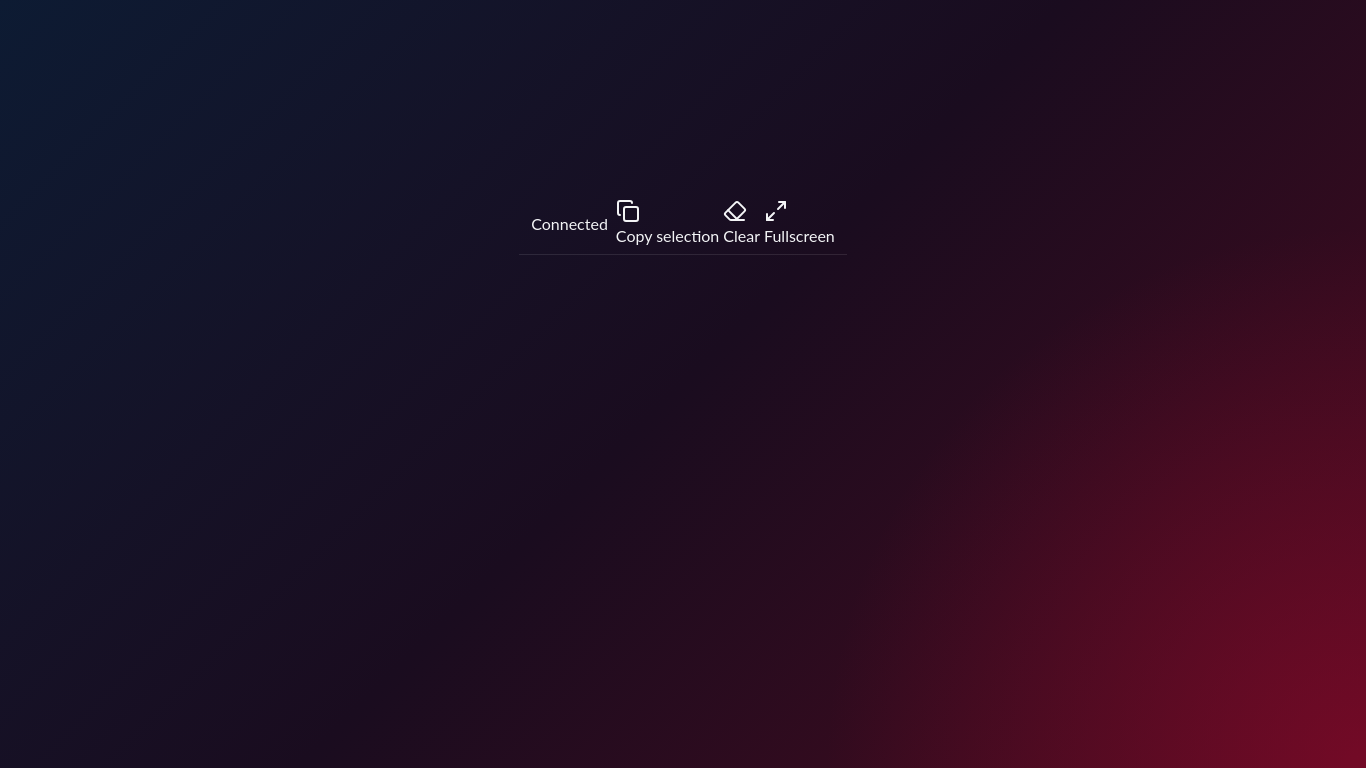
Test: Terminal › pipes transport output and input, clear works, and reconnect appears on close
Later steps or results of the test are not shown.
expect the text "Connected" is shown: met, box [531, 214, 608, 233]
Click the button "Clear".
click(742, 224)  # box [723, 199, 760, 248]
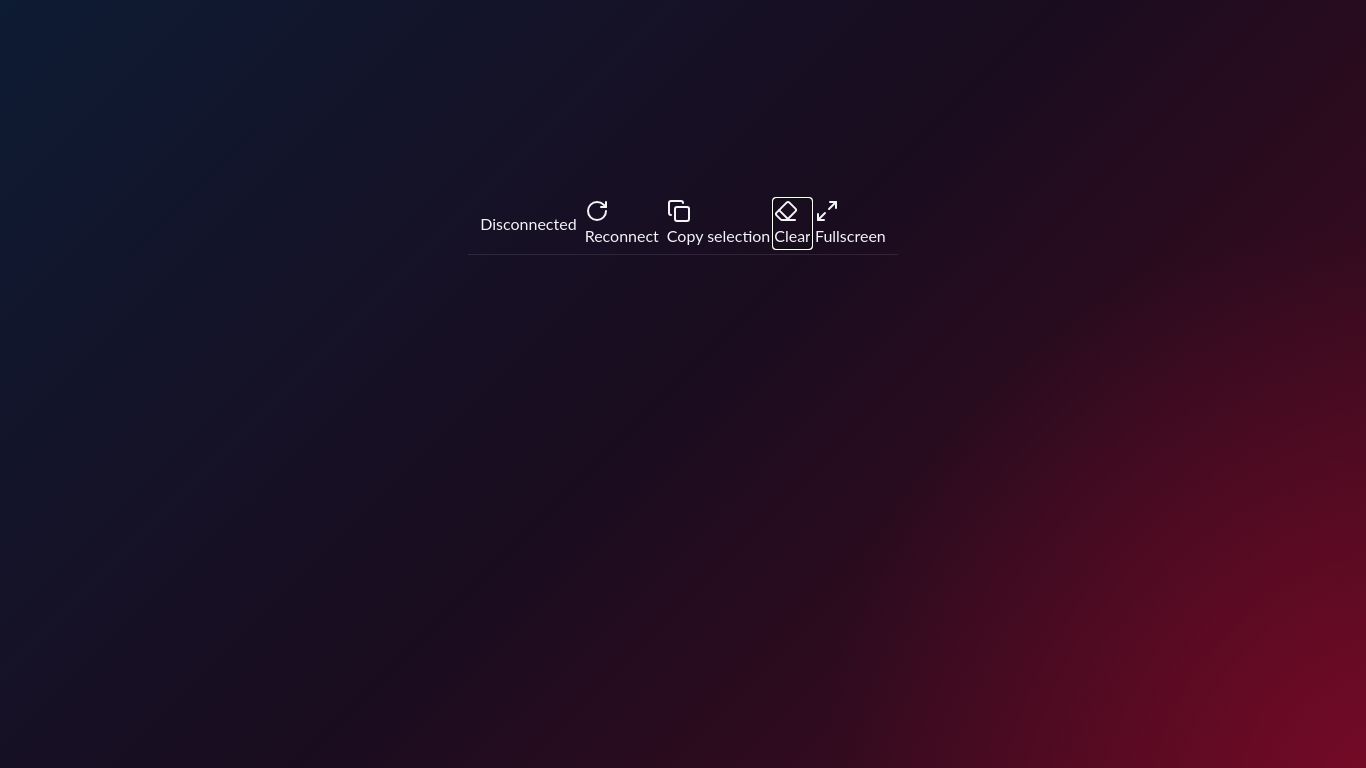
expect the text "Disconnected" is shown: met, box [480, 214, 577, 233]
